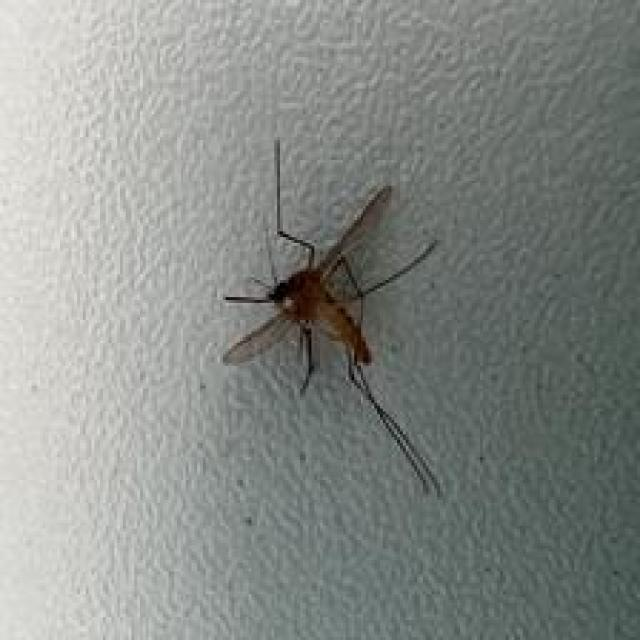Culex: (220, 136, 446, 498)
